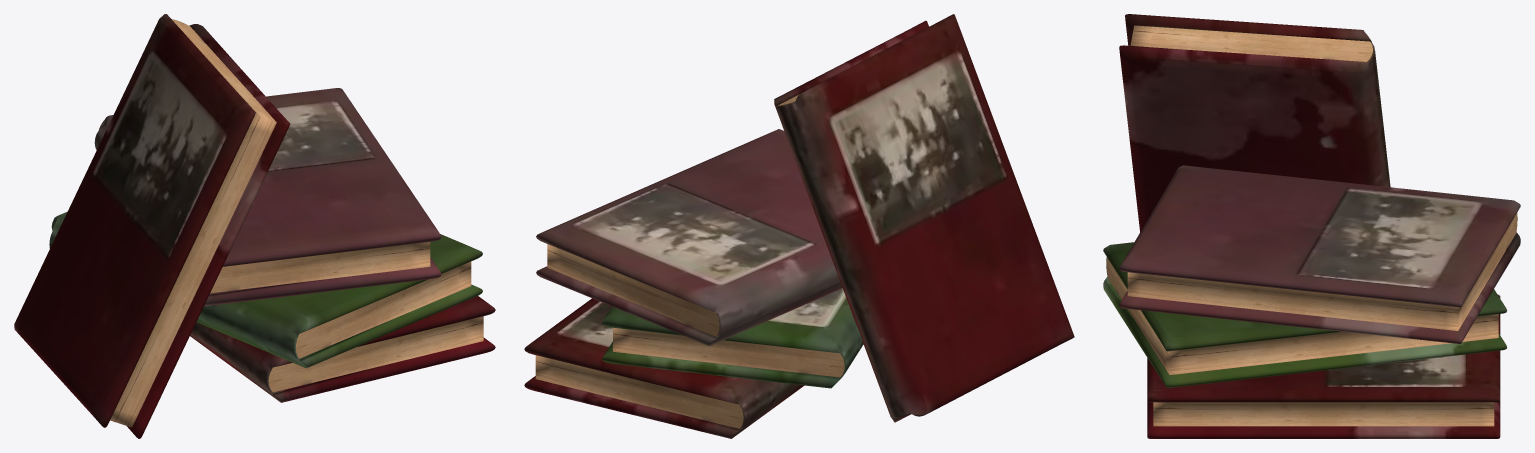
The model's file is obj_book_stack.glb.
The picture shows the model from 3 angles, left to right: view 1: azimuth 30°, elevation 25°; view 2: azimuth 150°, elevation 25°; view 3: azimuth 270°, elevation 25°; orthographic projection. The views are drawn at different scales.
Visible parts, largest first — view 1: Object_2; view 2: Object_2; view 3: Object_2.
Part boxes in pixels (bbox=[...]): Object_2: bbox=[14, 14, 495, 438]; Object_2: bbox=[524, 14, 1074, 438]; Object_2: bbox=[1103, 14, 1520, 438].
Size of the model in its own units: 0.32 by 0.2393 by 0.2951.
8 materials, 8 textured.
